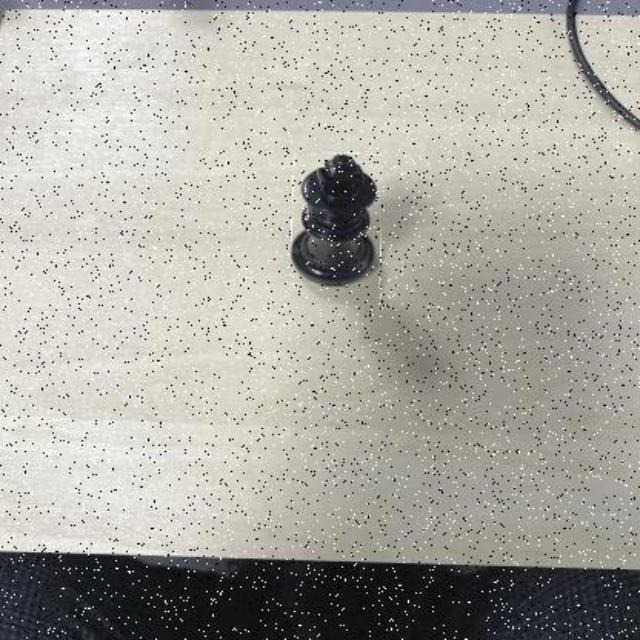black-king: (291, 153, 383, 285)
